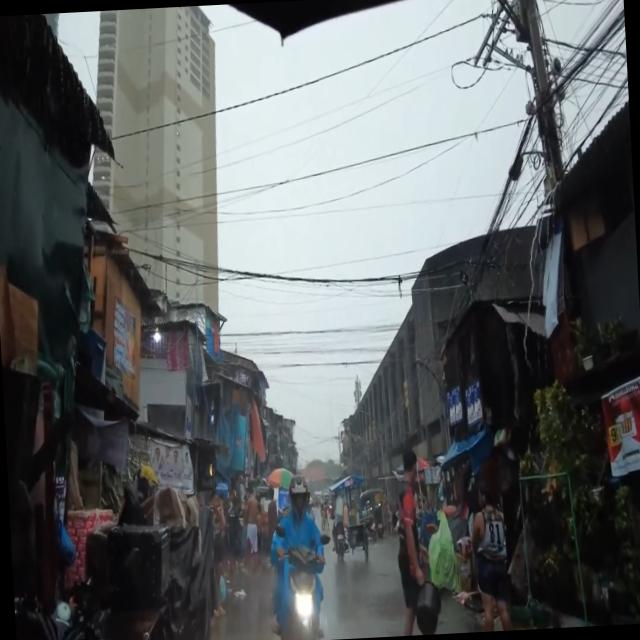full: (288, 473, 310, 523)
